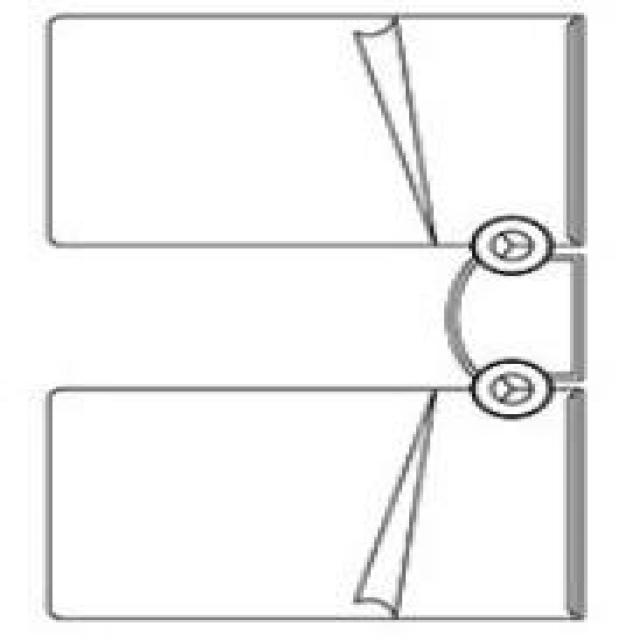bed: (39, 7, 577, 615)
